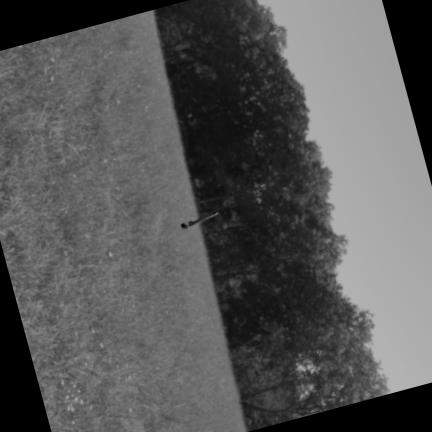Shahed: (180, 212, 217, 228)
